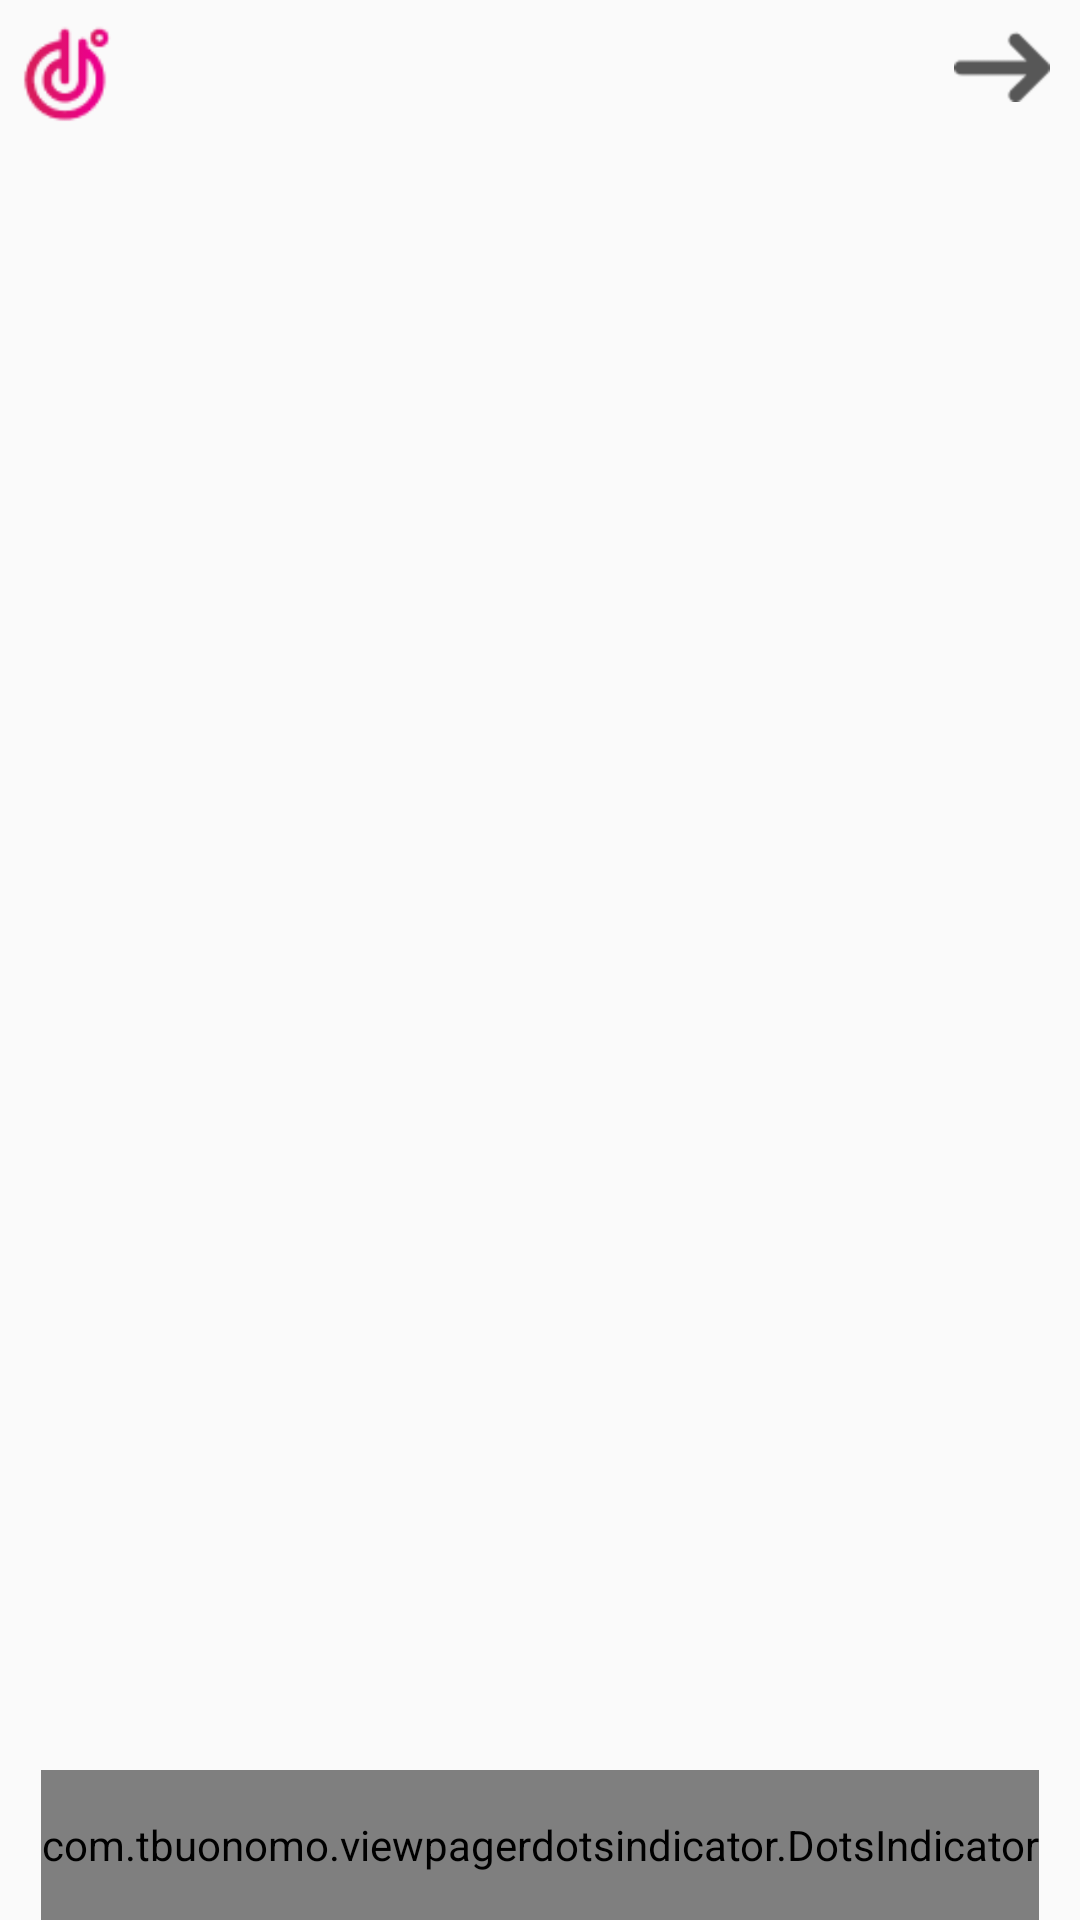

Where to tap for icons on this 1080 × 1920 app screen, as [x,y]:
next arrow: [1002,67]
